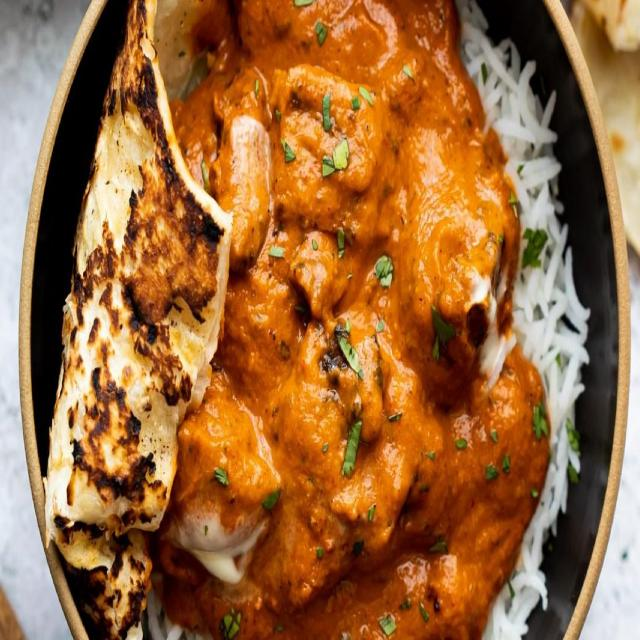Butter Chicken: (225, 25, 539, 640)
